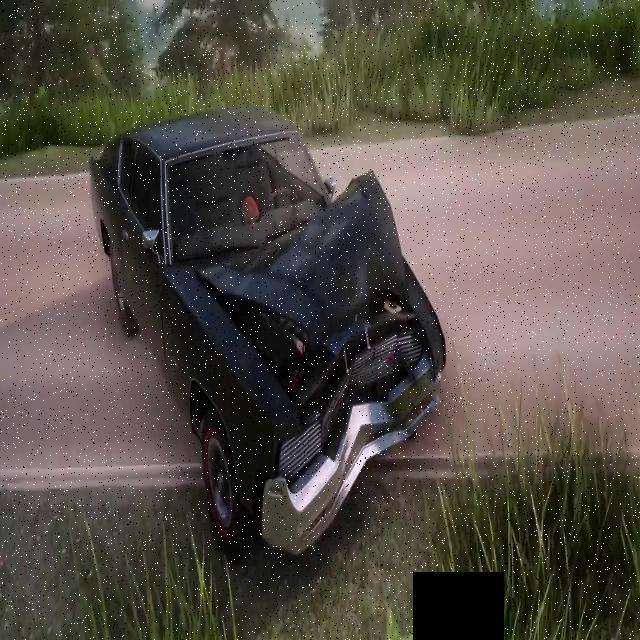single accident: (54, 96, 486, 610)
